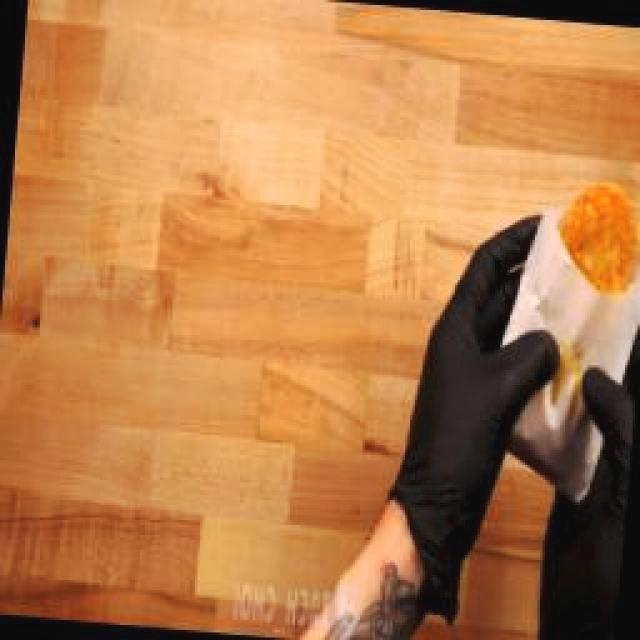Hashbrown: (558, 185, 638, 292)
